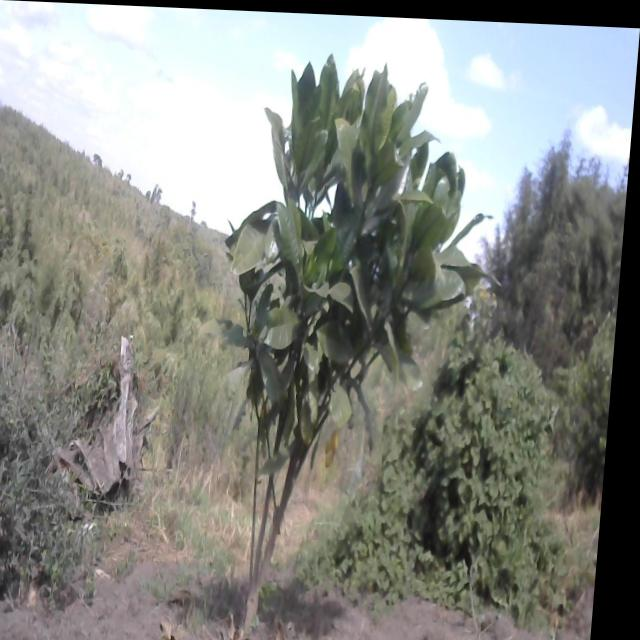cedrus: (483, 118, 631, 353)
other: (192, 42, 520, 628)
